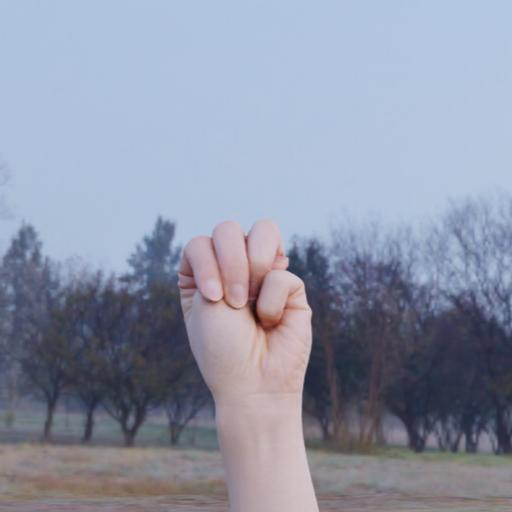M: (166, 214, 327, 408)
